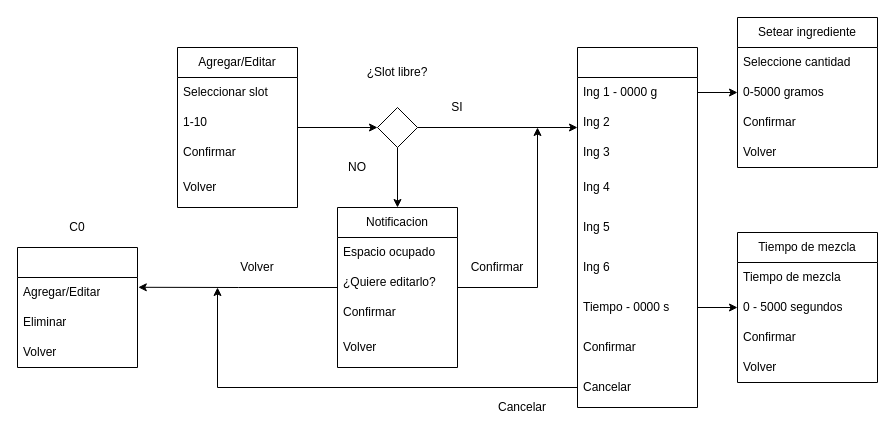
Image size: 895x445. Some labels were removed from this diagram. The box of each missing label's shape, as (x1, y1, x2, y2) in pixels:
Libreria de recetas: (16, 246, 138, 368)
Seleccione ingrediente: (576, 46, 698, 408)
